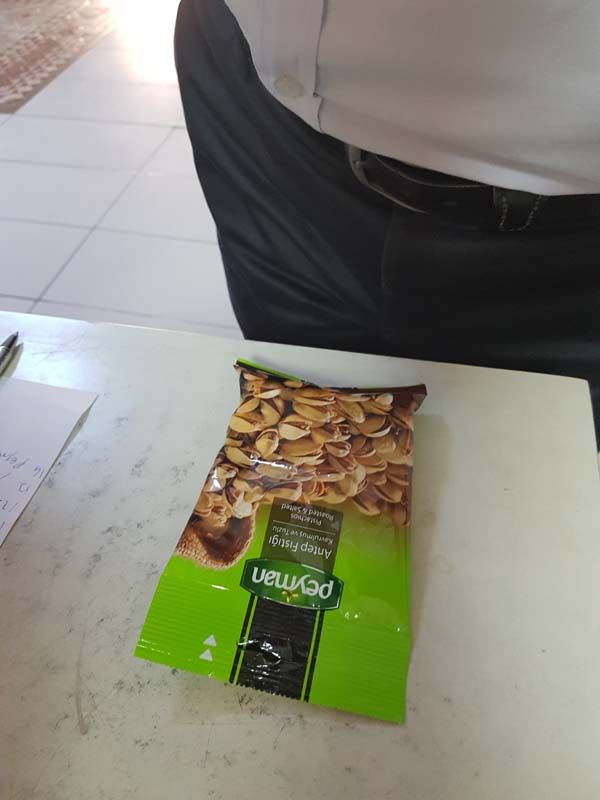antepfistigi: (133, 356, 435, 733)
